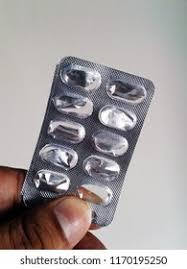pill_Strip: (22, 57, 153, 225), (60, 64, 100, 90), (106, 80, 146, 104), (39, 144, 77, 169), (53, 94, 92, 118), (83, 155, 119, 181), (99, 105, 136, 130), (92, 130, 127, 156), (48, 120, 85, 143), (33, 170, 69, 193), (76, 182, 112, 205)
